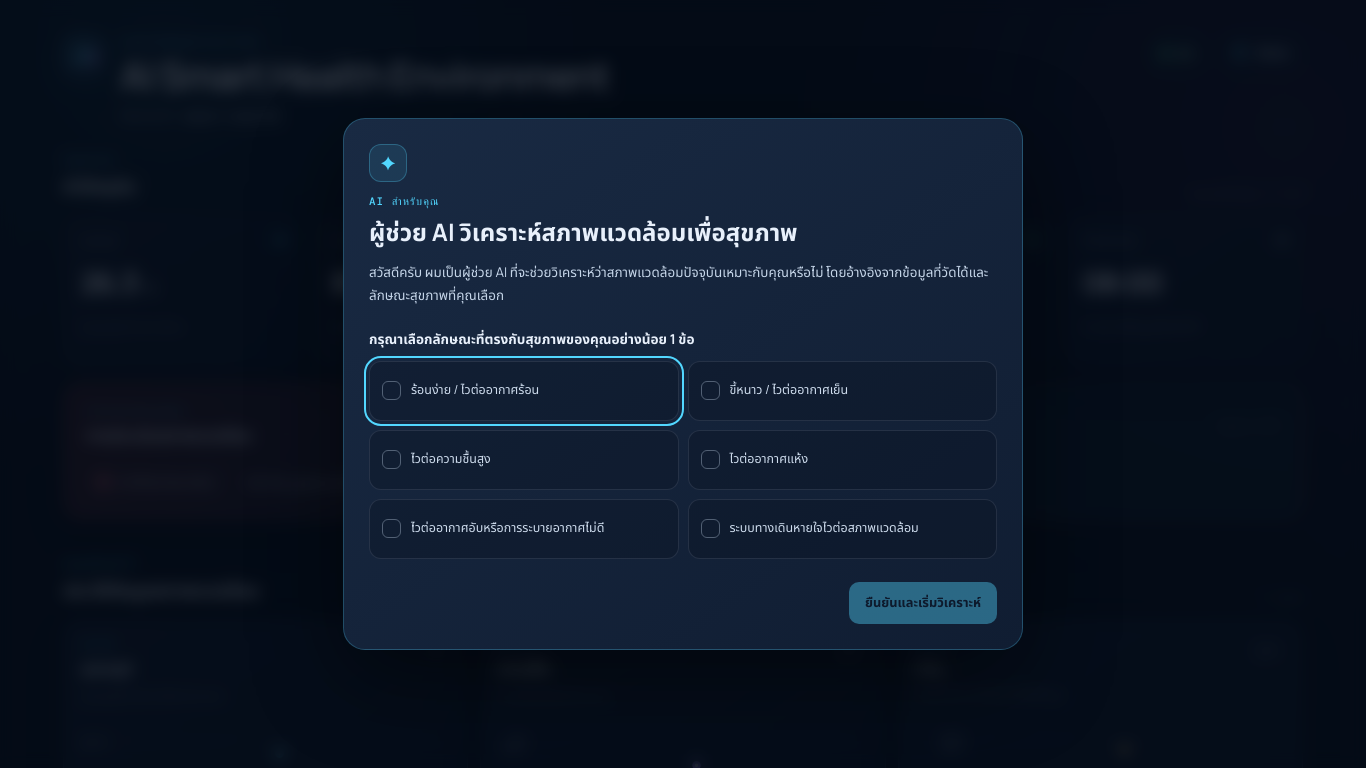
Test case: AI environmental dashboard › sends only device_id and selected IDs, then renders a fallback assessment normally
Click the button "ไวต่ออากาศอับหรือการระบายอากาศไม่ดี" at (524, 529), box [369, 499, 678, 559]
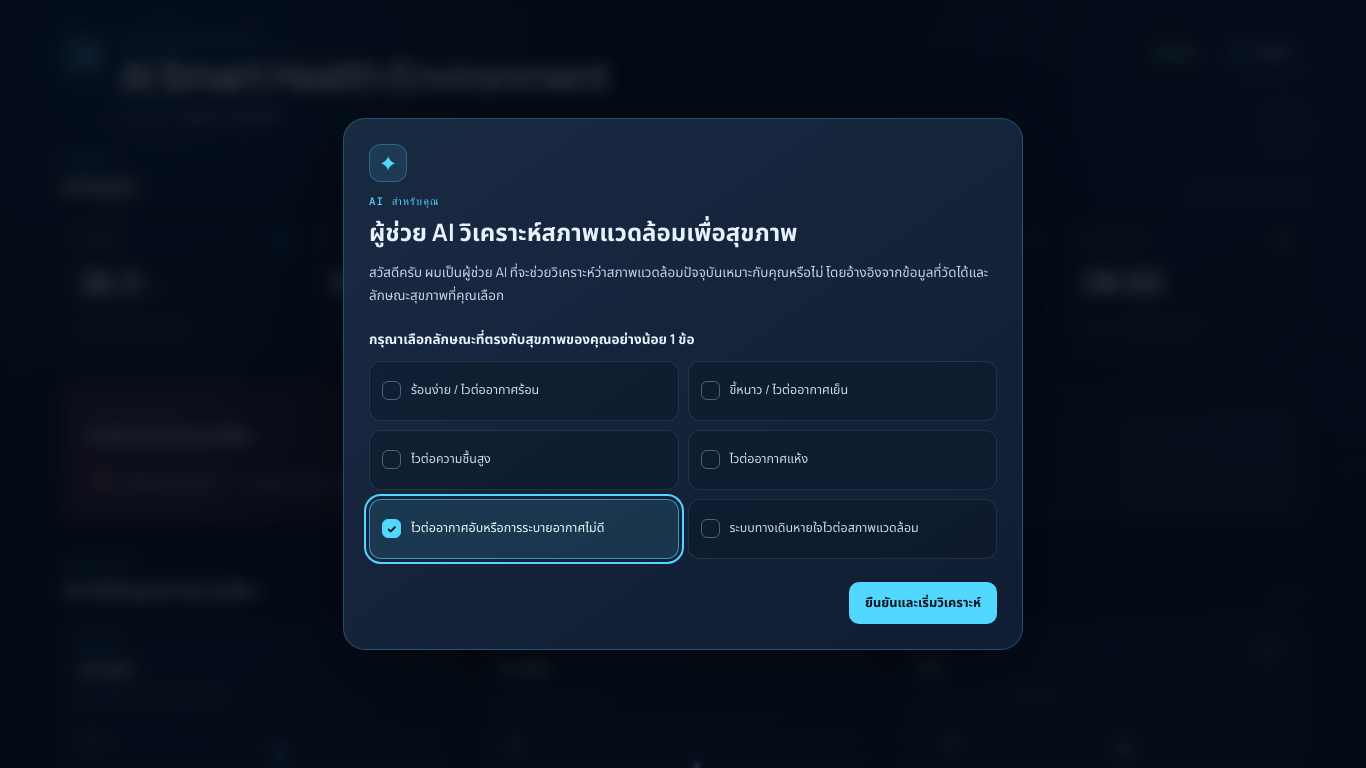
Click the button "ยืนยันและเริ่มวิเคราะห์" at (923, 603), box [849, 582, 997, 624]
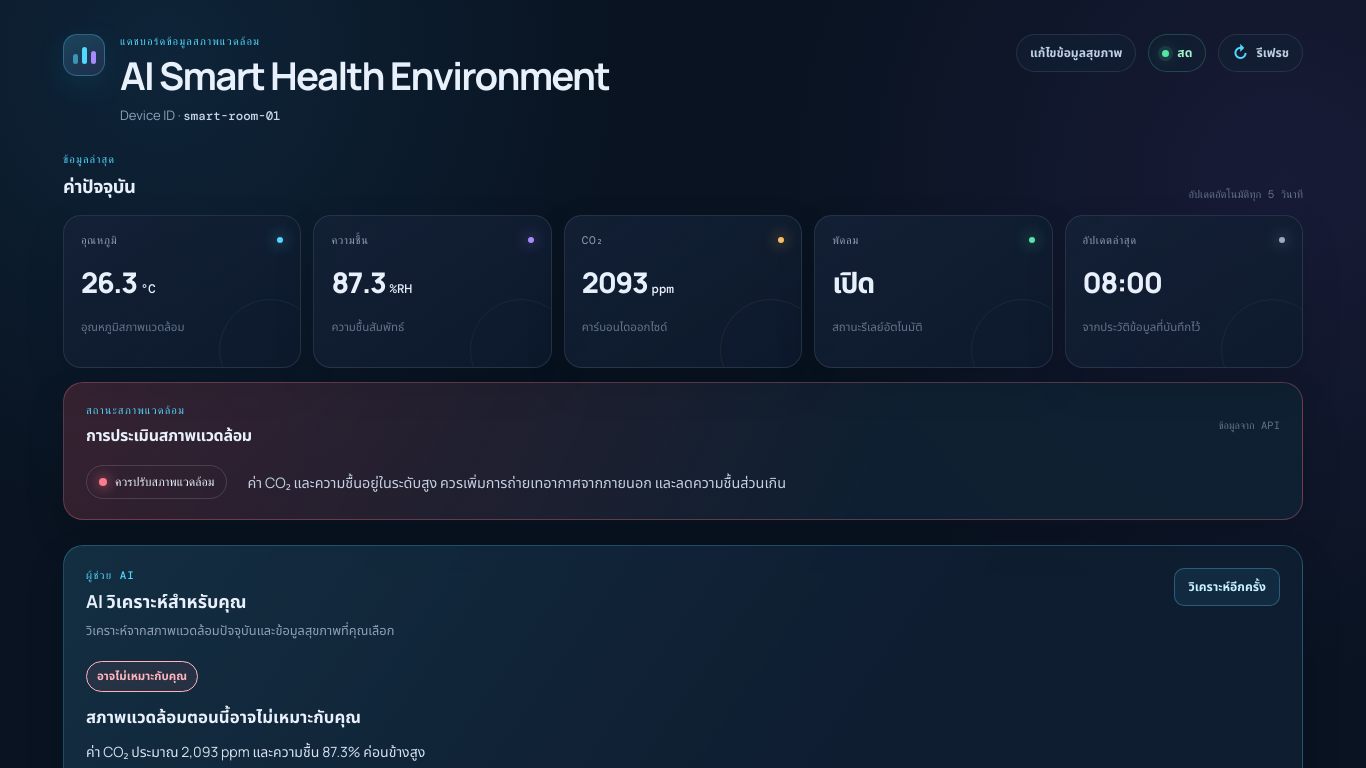
Result: the dialog is gone
Result: the text "ค่า CO₂ ประมาณ 2,093 ppm และความชื้น 87.3% ค่อนข้างสูง" is shown at [86, 742, 425, 761]
Result: the text "อาจไม่เหมาะกับคุณ" is shown at [86, 661, 198, 692]
